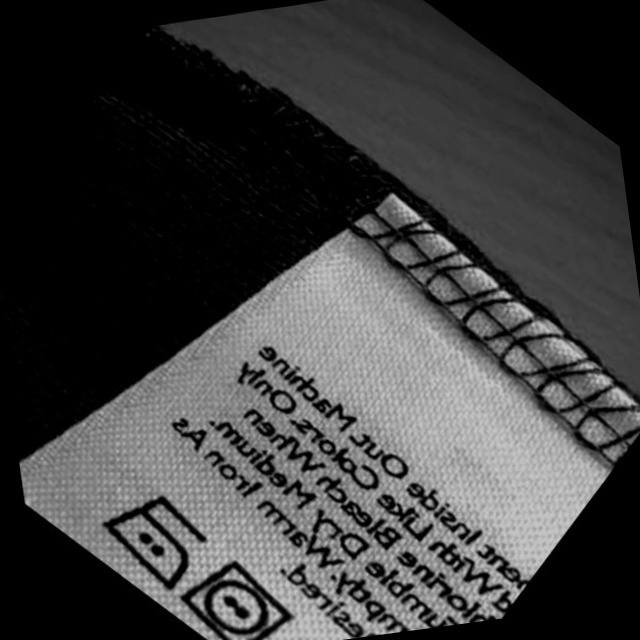iron_medium: (93, 490, 211, 596)
tumble_dry_medium: (174, 556, 295, 640)
